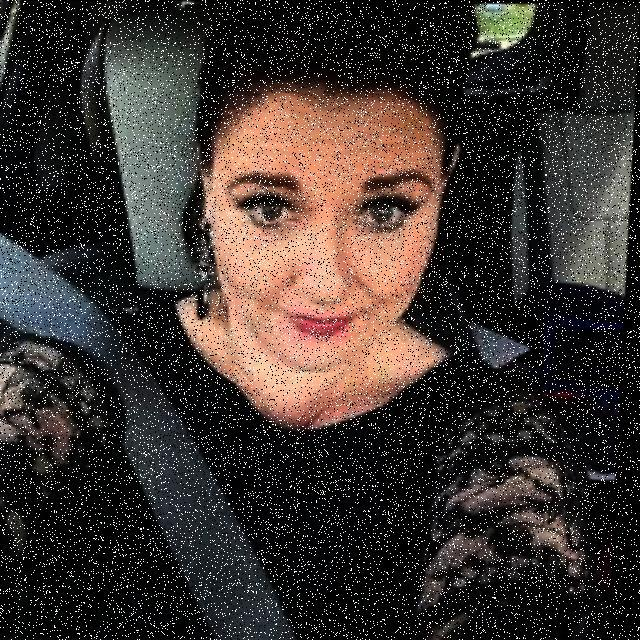seatbelt: (47, 294, 499, 640)
